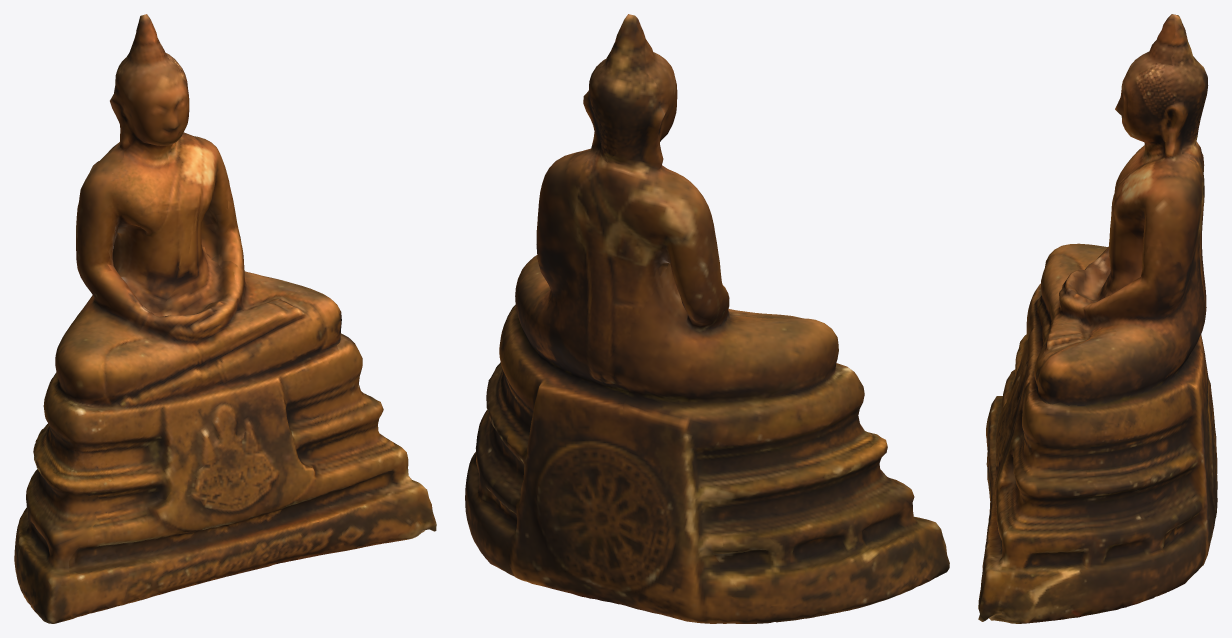
The picture shows the model from 3 angles, left to right: view 1: azimuth 30°, elevation 25°; view 2: azimuth 150°, elevation 25°; view 3: azimuth 270°, elevation 25°; orthographic projection. The views are drawn at different scales.
Visible parts, largest first — view 1: texturedMesh_2k_26k; view 2: texturedMesh_2k_26k; view 3: texturedMesh_2k_26k.
Part boxes in pixels (x1,y1,x2,y2): texturedMesh_2k_26k: (14, 14, 436, 623); texturedMesh_2k_26k: (465, 14, 949, 623); texturedMesh_2k_26k: (978, 14, 1217, 623).
Bounding box in the file's own units: 2.34 × 2.89 × 1.23.
1 material, 1 textured.
